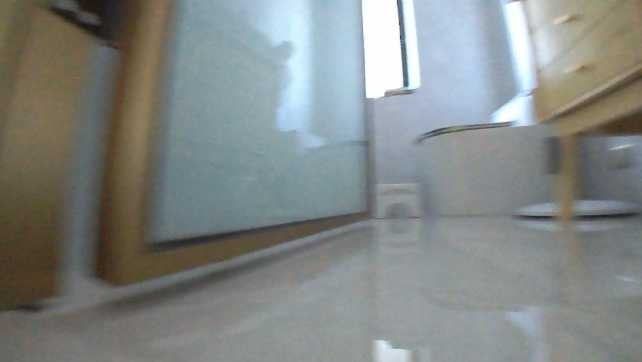chair_base: (514, 191, 641, 217)
toilet: (413, 85, 556, 217)
